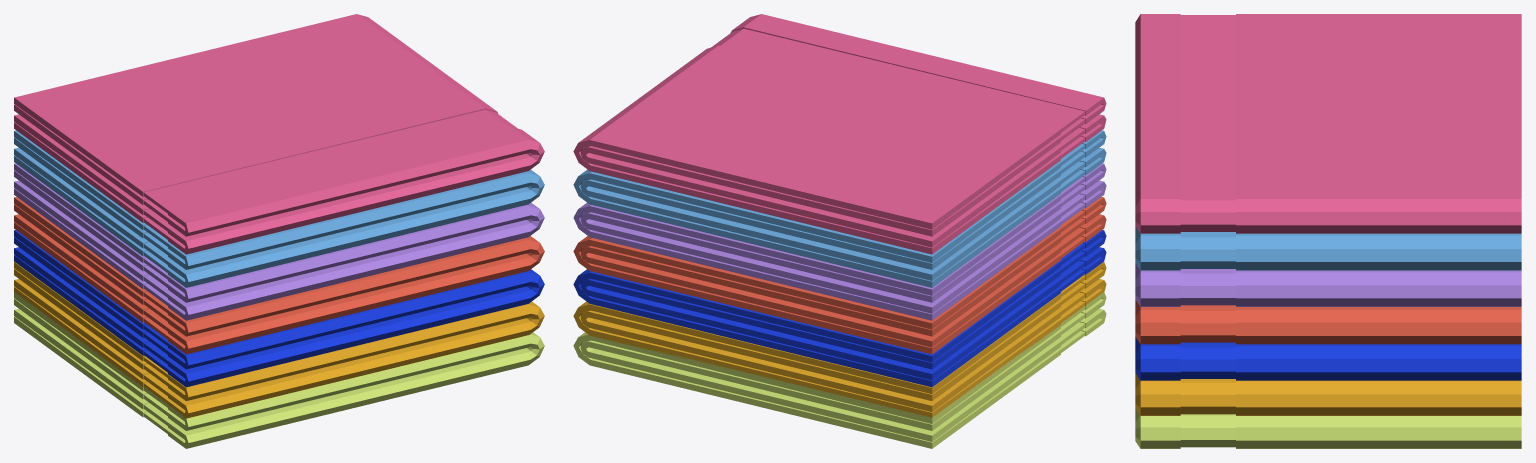
The model's file is Havlular.fbx.
The picture shows the model from 3 angles, left to right: view 1: azimuth 30°, elevation 25°; view 2: azimuth 150°, elevation 25°; view 3: azimuth 270°, elevation 25°; orthographic projection. The views are drawn at different scales.
Parts seen in each view (by area): view 1: towels; view 2: towels; view 3: towels.
Boxes of the visible parts, x1,y1,x2,y2 form: towels: [14, 14, 544, 448]; towels: [573, 14, 1106, 448]; towels: [1135, 14, 1521, 448].
Size of the model in its own units: 100 by 60.24 by 84.44.
